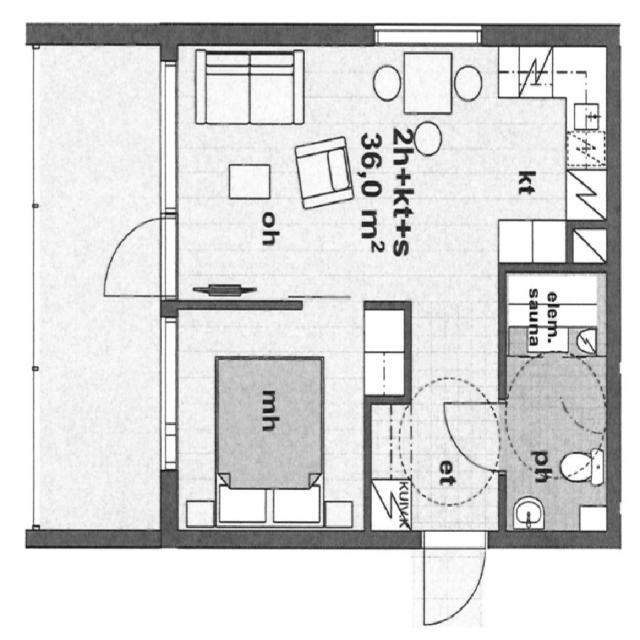door: (172, 41, 612, 302), (168, 304, 368, 536), (505, 350, 618, 544)
window: (155, 55, 182, 219), (368, 19, 496, 53), (160, 319, 186, 468)
zone: (439, 386, 511, 483), (94, 213, 179, 295), (424, 524, 488, 624)
